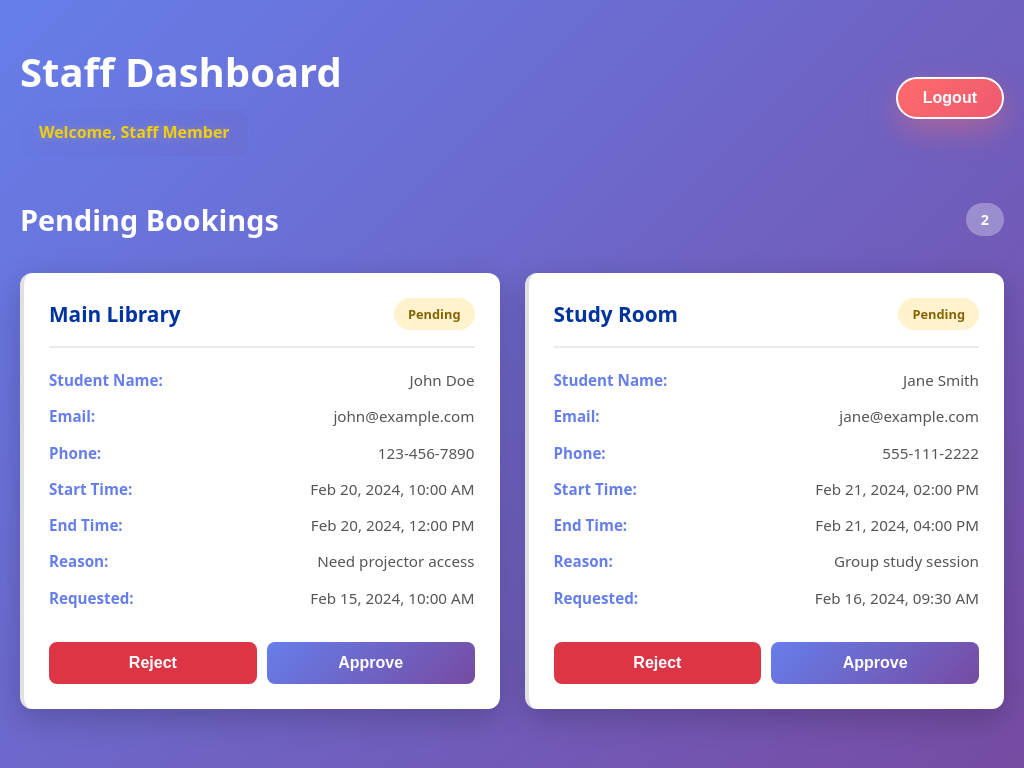
StaffDashboard Page Component › opens approve modal when approve button is clicked
Expected: the heading "Main Library" is shown, [49, 300, 181, 328]
Click the button "Approve" below "Feb 15, 2024, 10:00 AM" at (371, 663), box [267, 642, 475, 684]
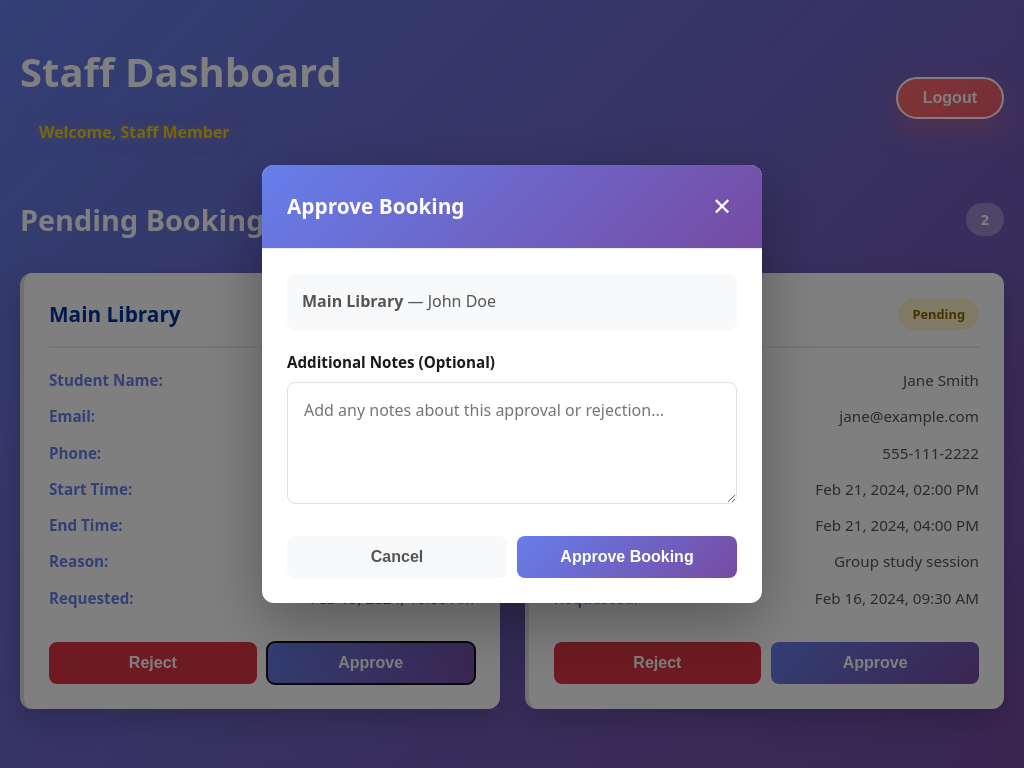
Expected: the heading "Approve Booking" is shown, [287, 190, 464, 223]
Expected: the text box with placeholder "Add any notes about this approval or rejection..." is shown, [287, 382, 737, 504]
